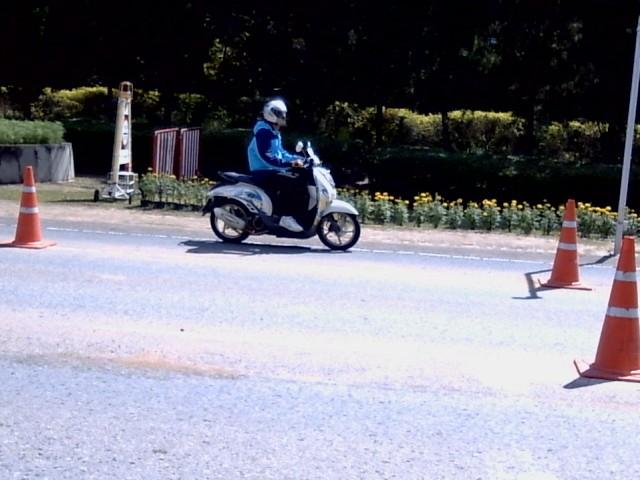helmet: (263, 96, 287, 124)
motor: (203, 141, 359, 249)
person: (247, 98, 306, 231)
